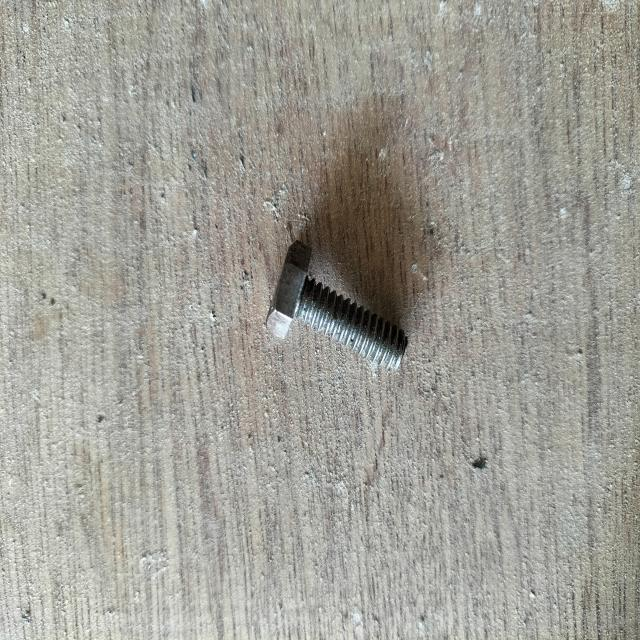bolt: (266, 240, 408, 372)
